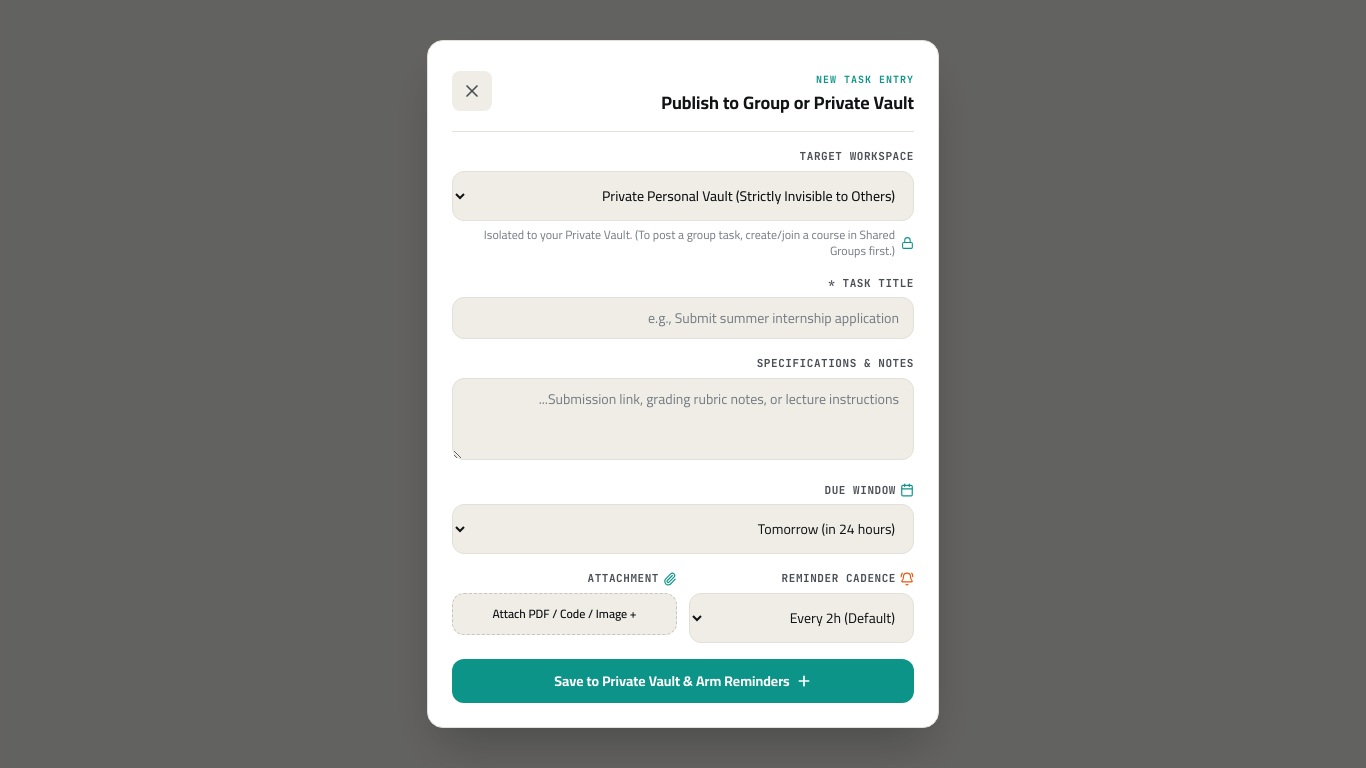
it: student draft recovery › retains a failed task draft and displays the server error
This screenshot has width=1366, height=768.
Type "Important draft" into the field labelled "Task Title *" at (683, 318), box [452,297,914,339]
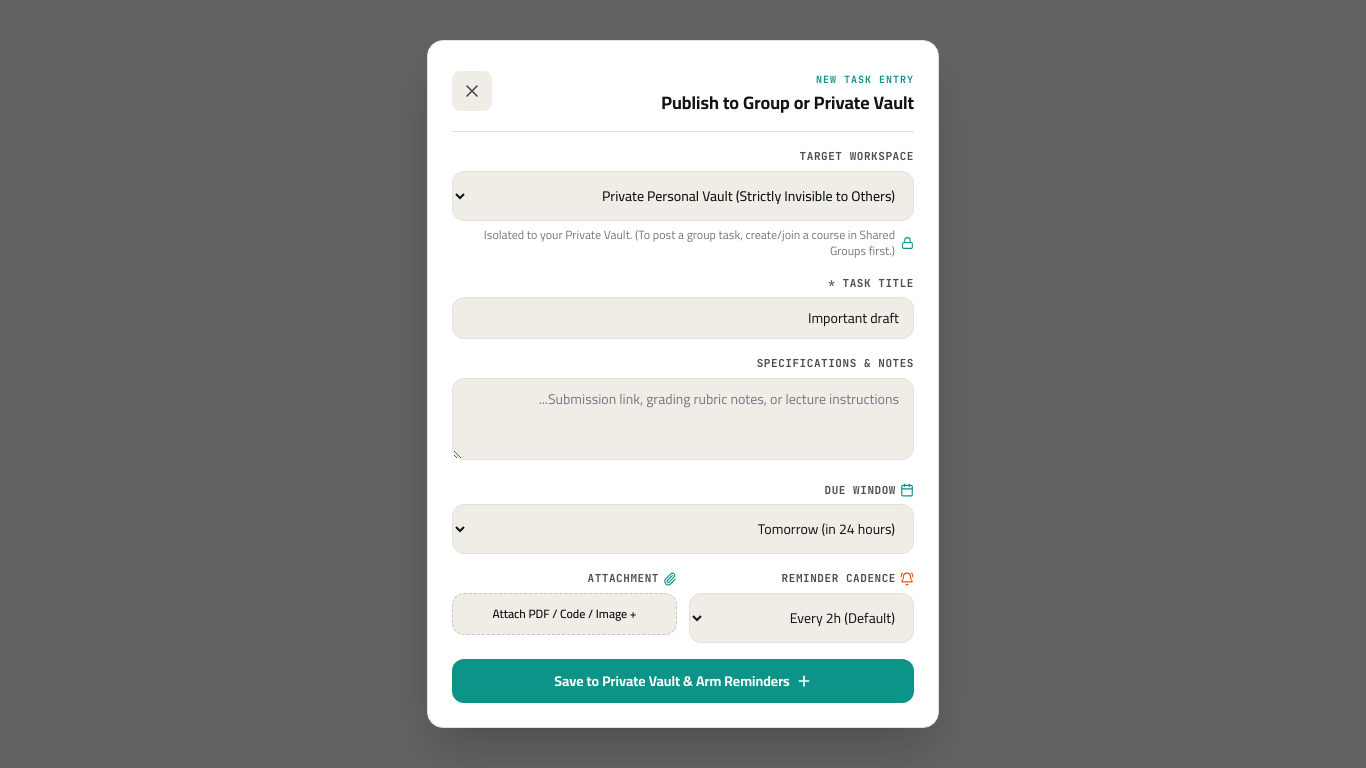
Submit the form, box [452,148,914,703]
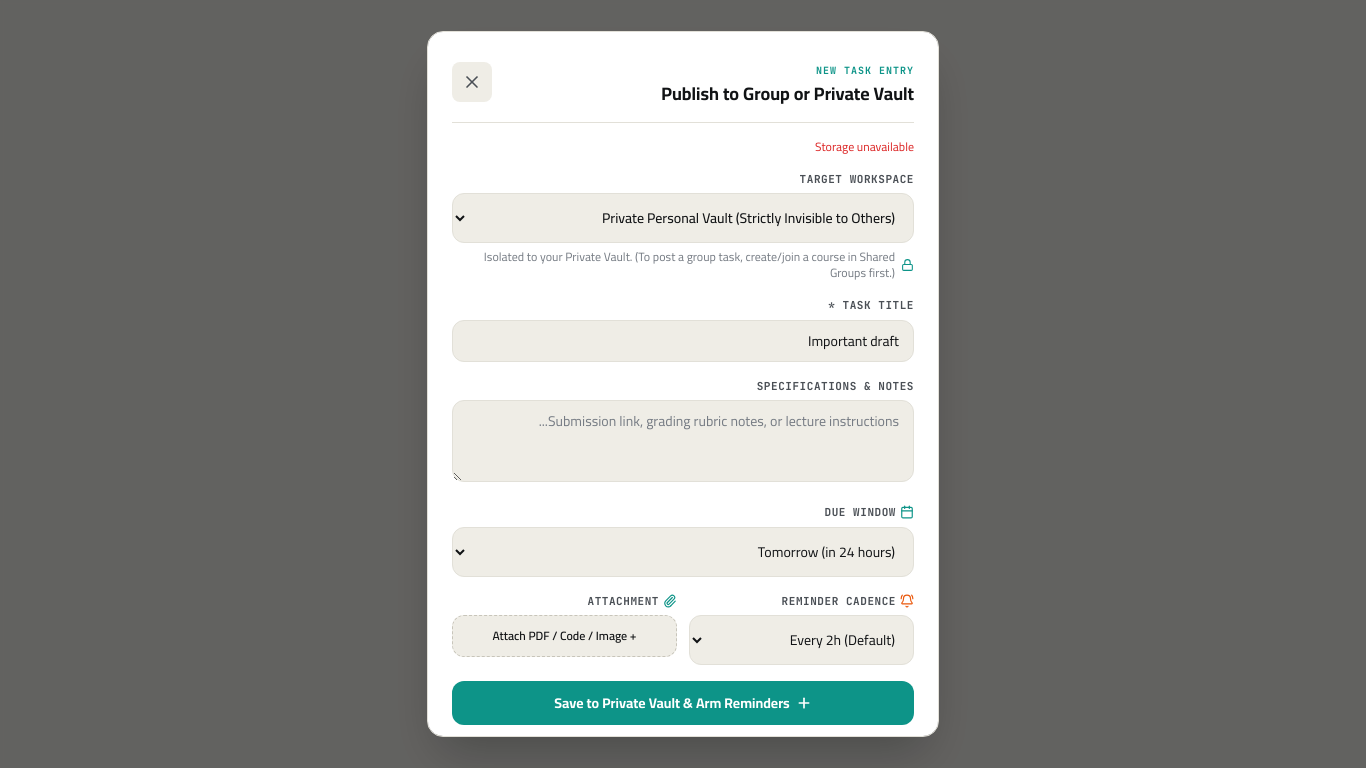
Expected: the message reads "Storage unavailable", [815,135,914,158]
